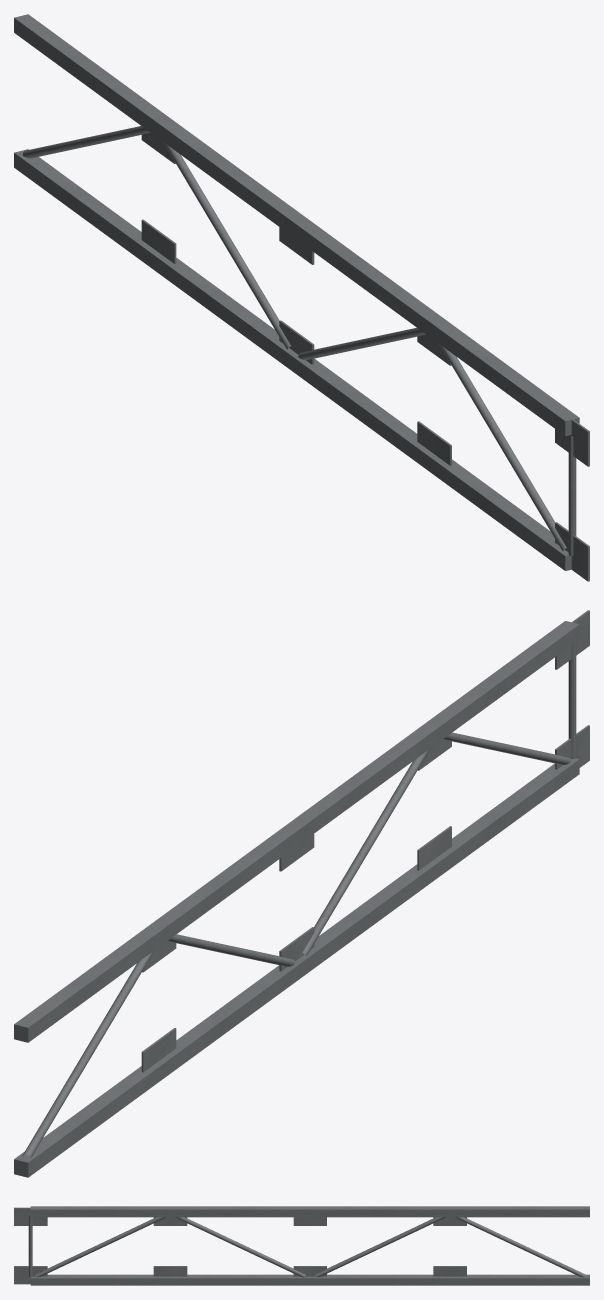
Rendered from SM_QUE_RoofTruss_4m.fbx.
The picture shows the model from 3 angles, top to bottom: view 1: azimuth 30°, elevation 25°; view 2: azimuth 150°, elevation 25°; view 3: azimuth 270°, elevation 25°; orthographic projection. The views are drawn at different scales.
Parts seen in each view (by area): view 1: SM_QUE_RoofTruss_4m; view 2: SM_QUE_RoofTruss_4m; view 3: SM_QUE_RoofTruss_4m.
Part boxes in pixels (<box>): SM_QUE_RoofTruss_4m: <box>14,14,589,581</box>; SM_QUE_RoofTruss_4m: <box>14,610,589,1177</box>; SM_QUE_RoofTruss_4m: <box>14,1206,589,1285</box>.
Bounding box in the file's own units: 0.06 × 0.6 × 4.12.
